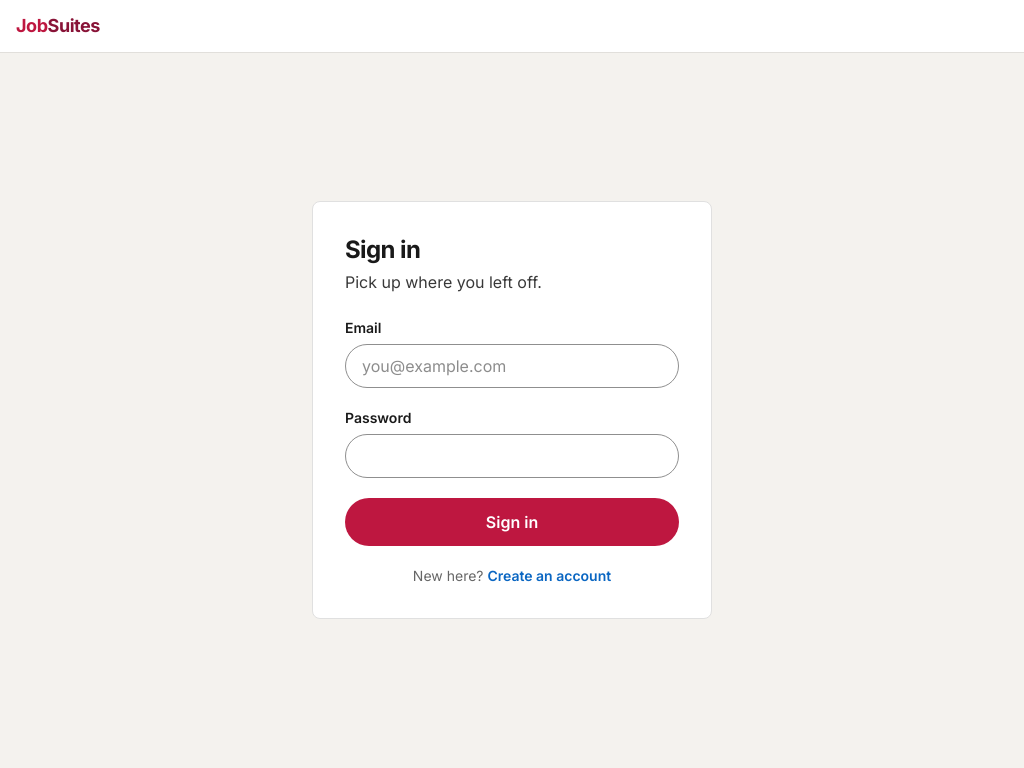
Test case: LoginPage › disables the button and announces progress while submitting
Step 1. Type "ada@example.com" into the field labelled "Email" → (512, 366), box x1=345 y1=344 x2=679 y2=388
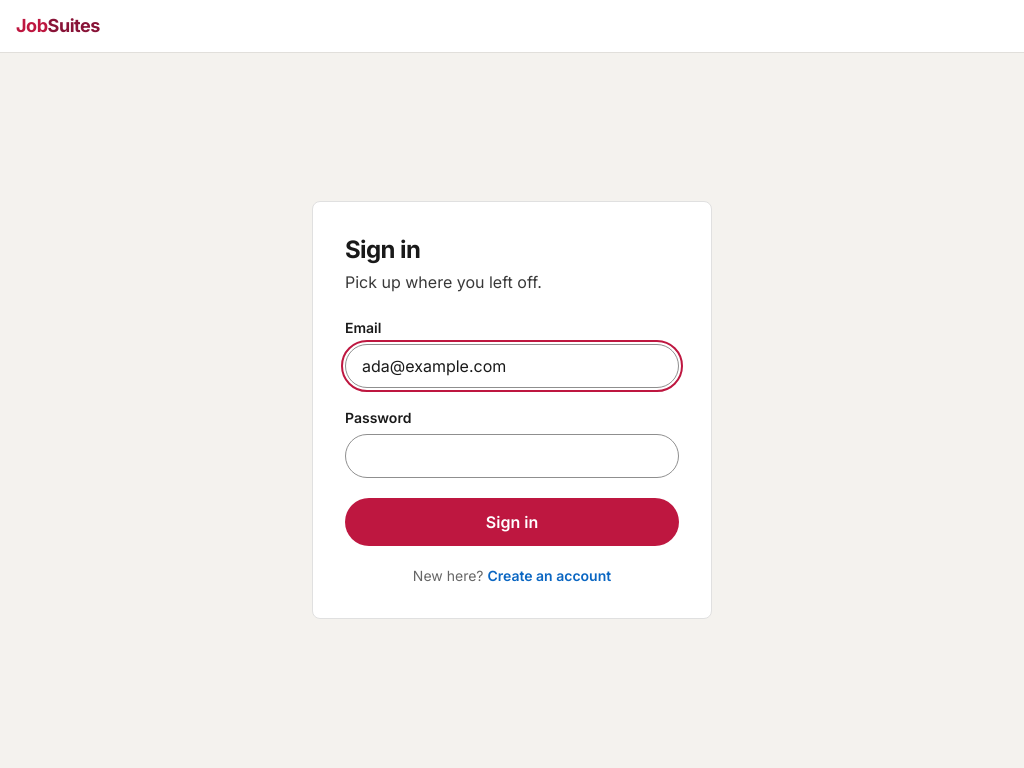
Step 2. Type "good-password-1!" into the password field labelled "Password" → (512, 456), box x1=345 y1=434 x2=679 y2=478
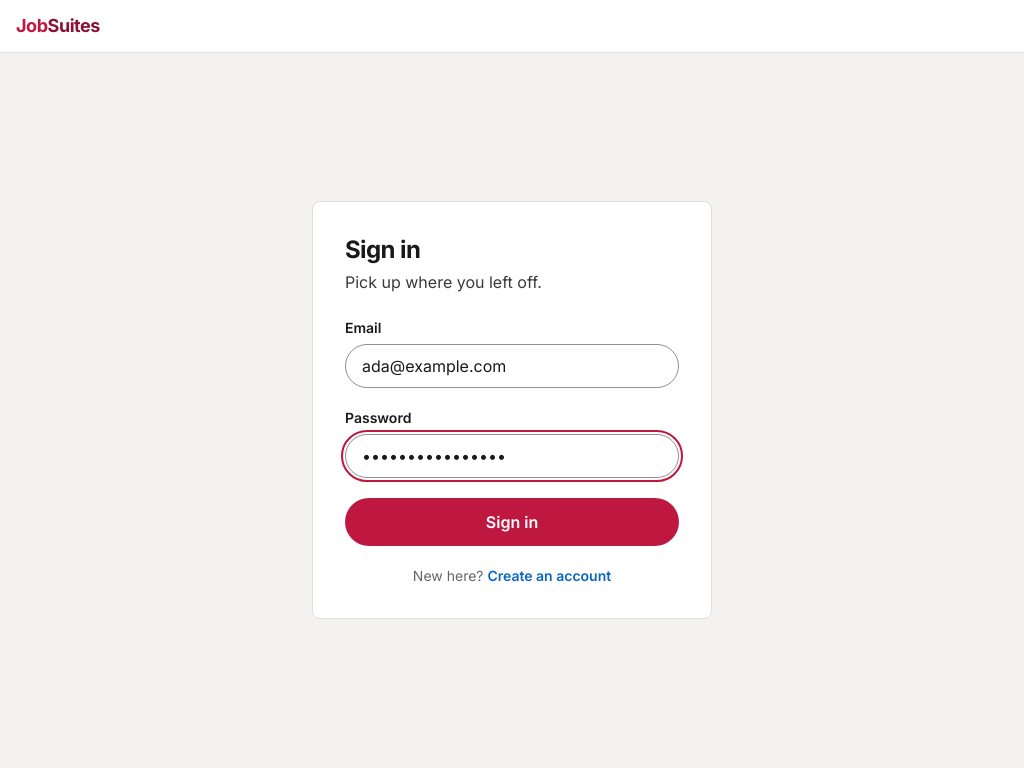
Step 3. Click the button "Sign in" → (512, 522), box x1=345 y1=498 x2=679 y2=546
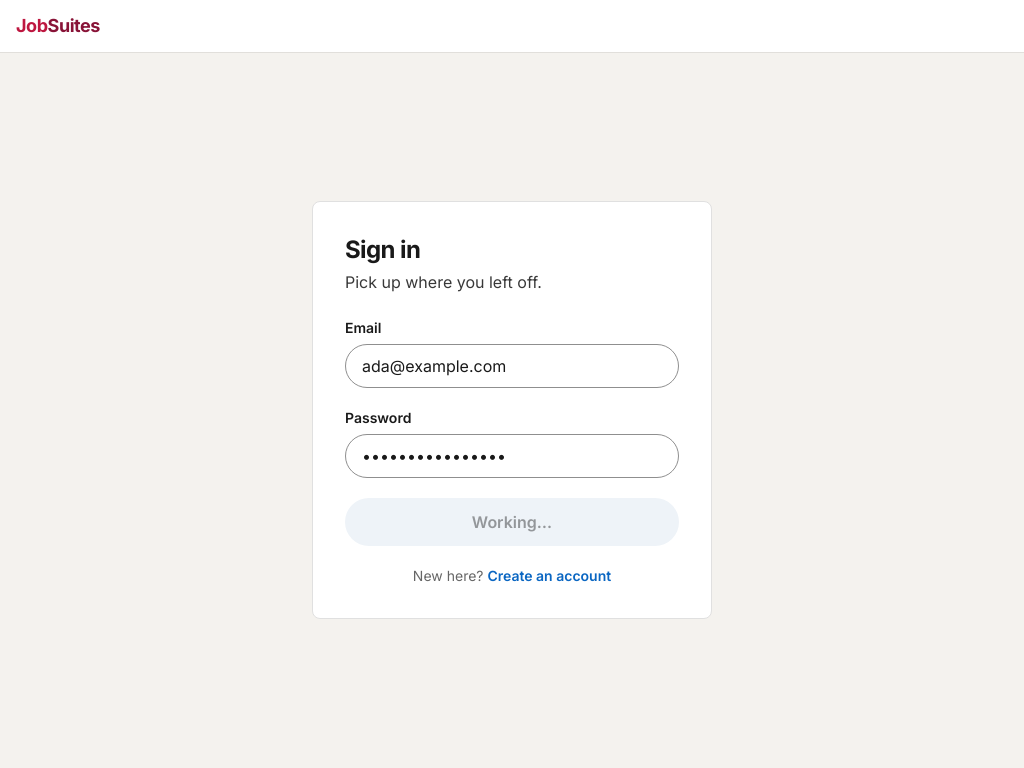
Result: the button "Working…" is disabled at x1=345 y1=498 x2=679 y2=546
